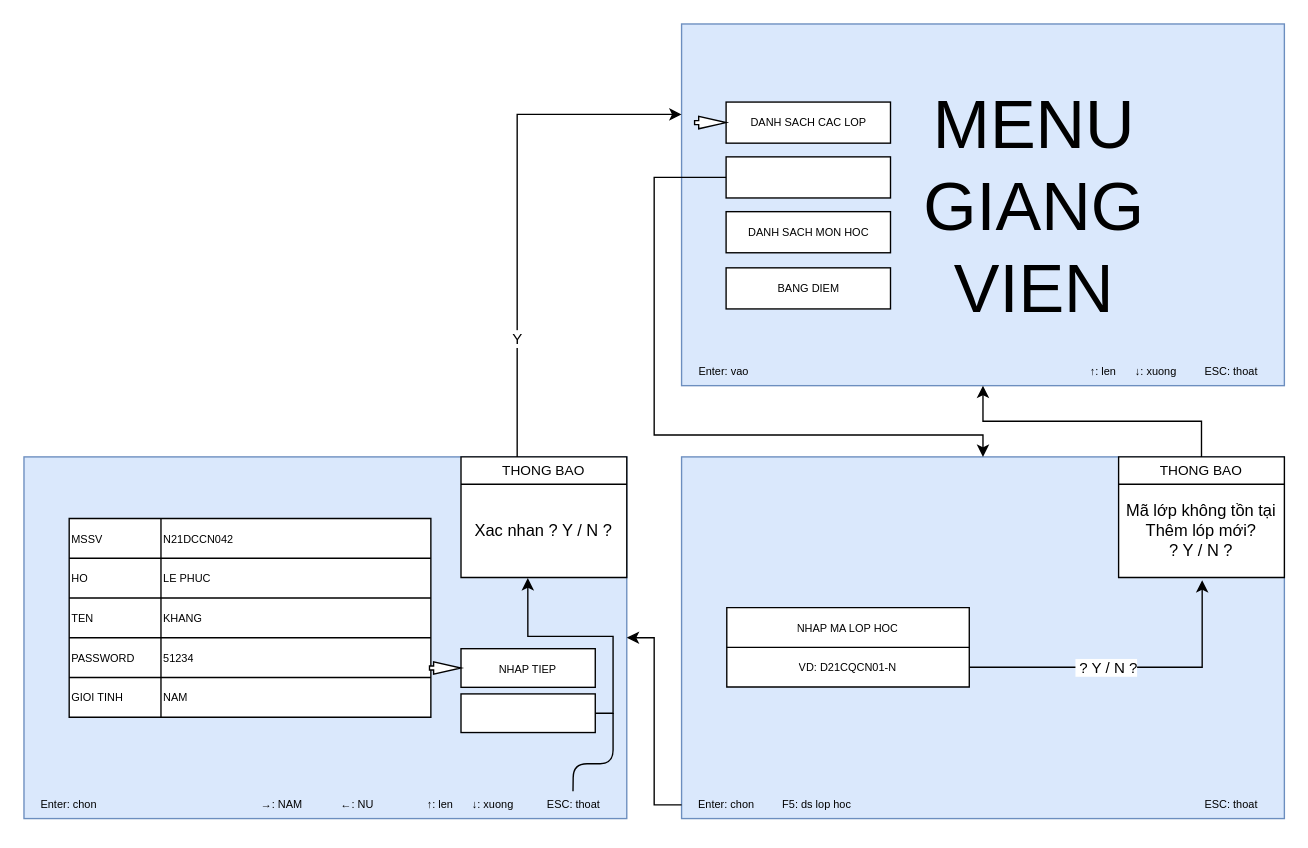
This 1308x848 diagram has some shape labels left out. Each missing label, with the centre of its shape:
KET THUC: (x=527, y=713)
THEM SINH VIEN: (x=808, y=176)
